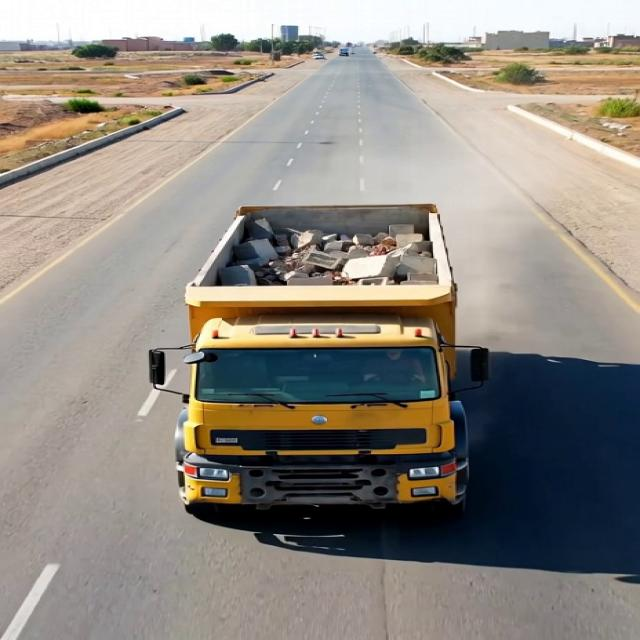trailer: (181, 203, 488, 310)
truck: (165, 194, 488, 519)
